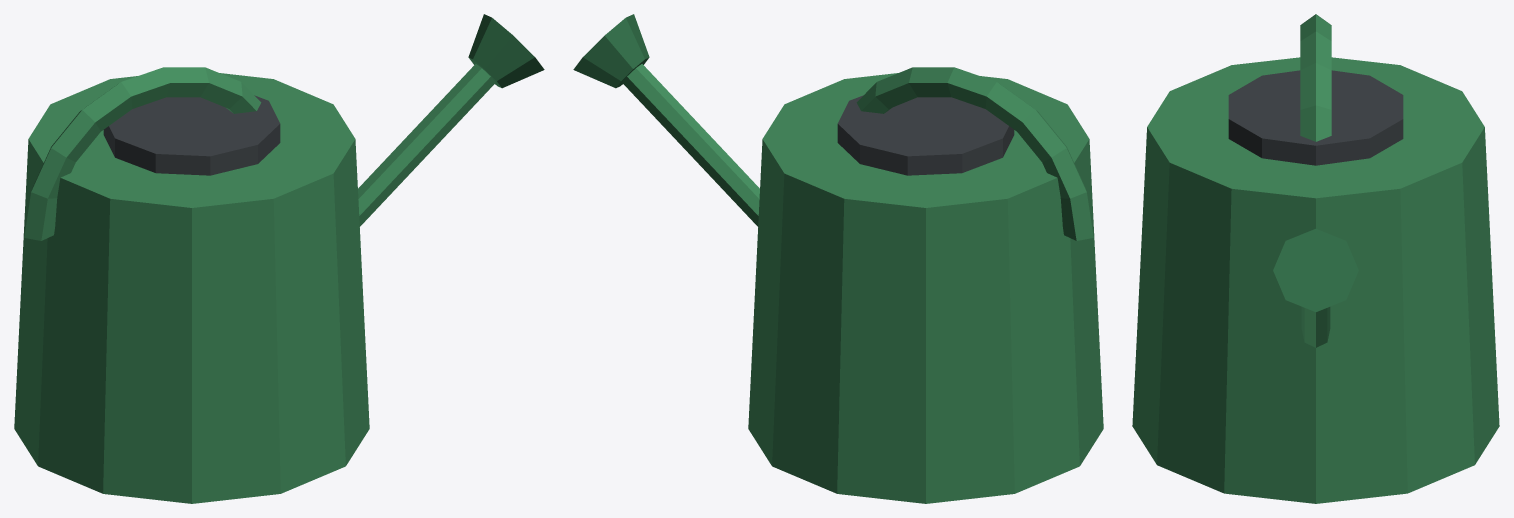
File: uprawa-konewka.glb
3 views of the same model, side by side, from view 1: azimuth 30°, elevation 25°; view 2: azimuth 150°, elevation 25°; view 3: azimuth 270°, elevation 25° (orthographic). The views are drawn at different scales.
Parts seen in each view (by area): view 1: uprawa-konewka-0, uprawa-konewka-1, uprawa-konewka-4, uprawa-konewka-2, uprawa-konewka-3; view 2: uprawa-konewka-0, uprawa-konewka-1, uprawa-konewka-4, uprawa-konewka-2, uprawa-konewka-3; view 3: uprawa-konewka-0, uprawa-konewka-1, uprawa-konewka-3, uprawa-konewka-4, uprawa-konewka-2.
Boxes of the visible parts, bbox=[...] form: uprawa-konewka-0: bbox=[14, 73, 369, 503]; uprawa-konewka-1: bbox=[103, 95, 280, 175]; uprawa-konewka-4: bbox=[24, 67, 261, 240]; uprawa-konewka-2: bbox=[358, 64, 495, 226]; uprawa-konewka-3: bbox=[468, 14, 544, 88]; uprawa-konewka-0: bbox=[748, 73, 1103, 503]; uprawa-konewka-1: bbox=[837, 95, 1014, 175]; uprawa-konewka-4: bbox=[856, 67, 1093, 240]; uprawa-konewka-2: bbox=[622, 64, 759, 226]; uprawa-konewka-3: bbox=[573, 14, 649, 88]; uprawa-konewka-0: bbox=[1132, 57, 1499, 503]; uprawa-konewka-1: bbox=[1228, 70, 1403, 165]; uprawa-konewka-3: bbox=[1273, 229, 1358, 311]; uprawa-konewka-4: bbox=[1300, 14, 1331, 141]; uprawa-konewka-2: bbox=[1301, 307, 1330, 347].
Bounding box in the file's own units: 1.66 × 1.14 × 1.
